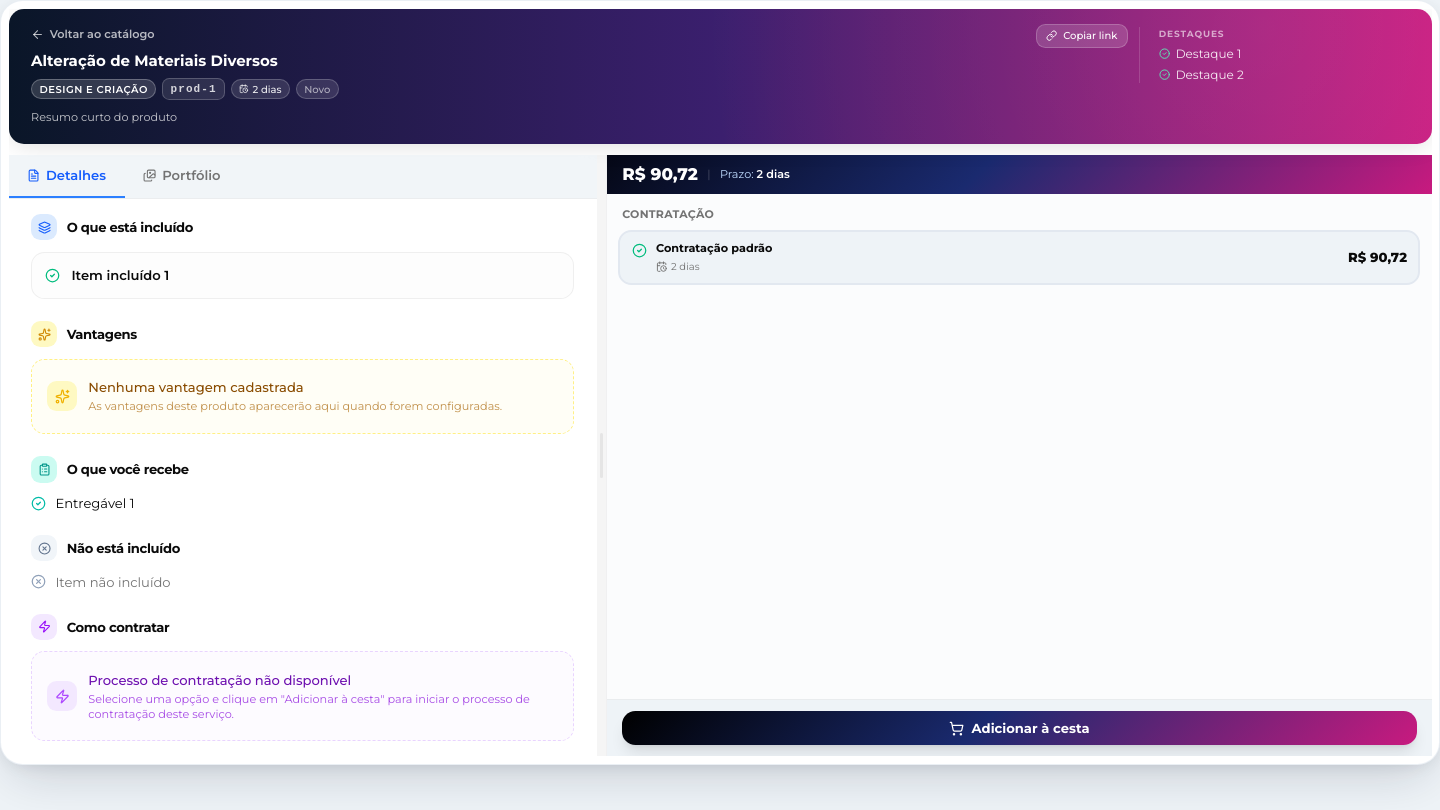
Scenario: ProductContractView › 9. estado vazio do portfólio aparece quando não há imagens
The image size is (1440, 810).
Click the tab "Portfólio" at (182, 177), box [125,155,239,198]
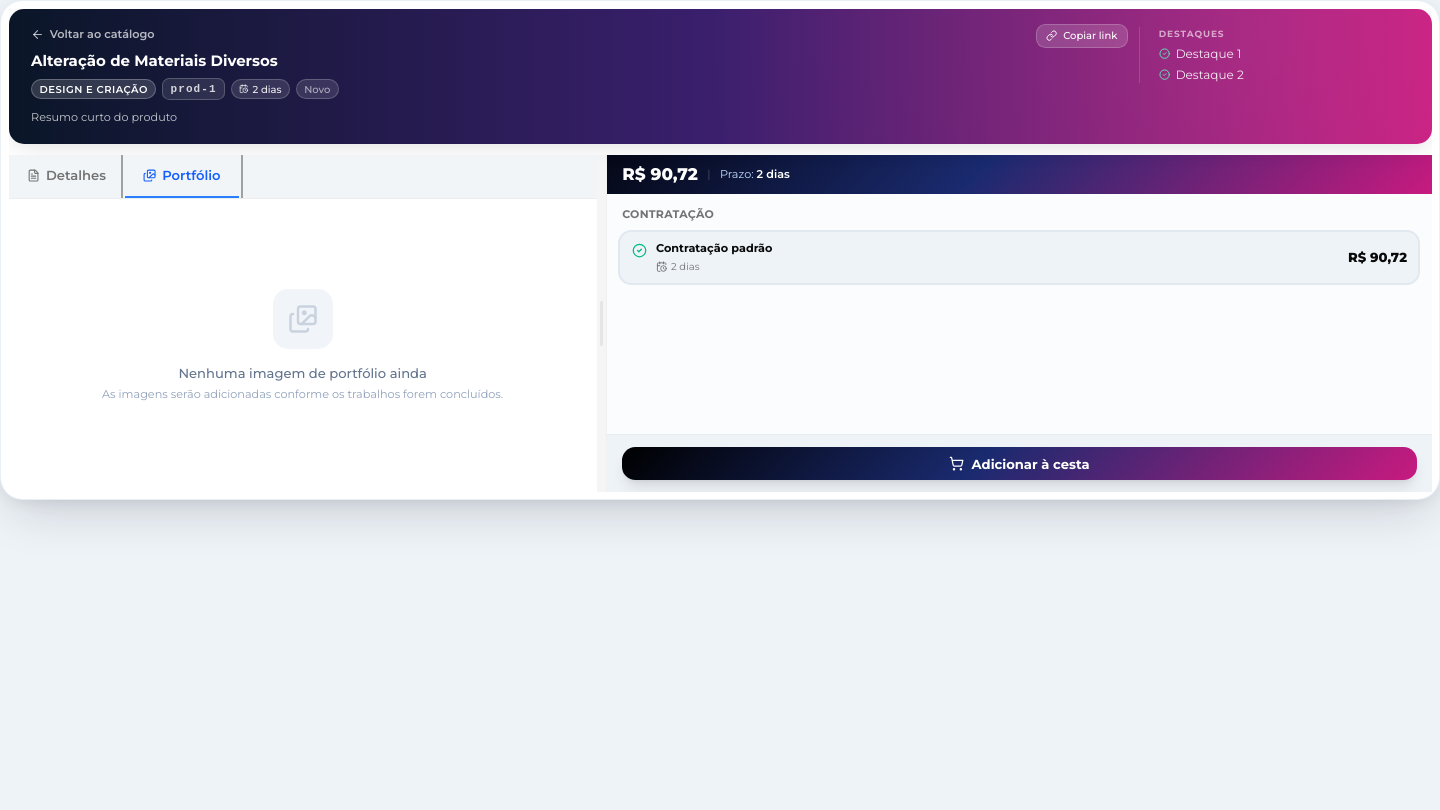
Result: the text "Nenhuma imagem de portfólio ainda" is shown at [178,365,427,381]
